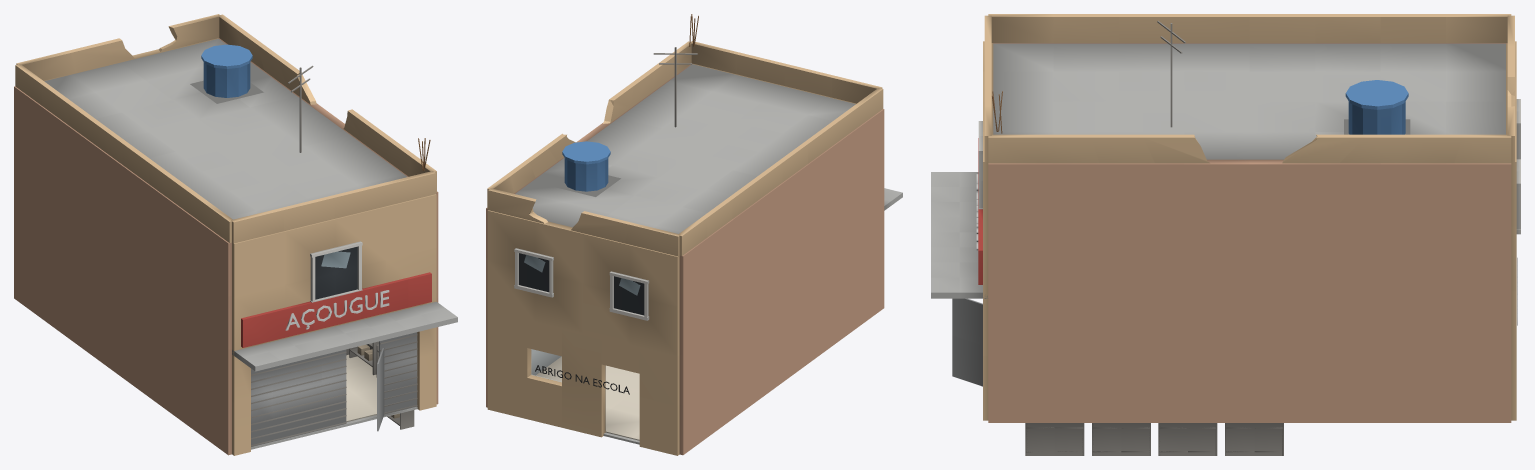
File: sobrado_3.glb
The picture shows the model from 3 angles, left to right: view 1: azimuth 30°, elevation 25°; view 2: azimuth 150°, elevation 25°; view 3: azimuth 270°, elevation 25°; orthographic projection. The views are drawn at different scales.
Parts seen in each view (by area): view 1: longe, ext, detalhe, dentro; view 2: ext, longe, detalhe, dentro; view 3: ext, longe, dentro, detalhe.
Part boxes in pixels (x1=…): longe: x1=15, y1=14, x2=457, y2=446; ext: x1=14, y1=38, x2=438, y2=455; detalhe: x1=190, y1=44, x2=430, y2=330; dentro: x1=251, y1=341, x2=417, y2=449; ext: x1=486, y1=63, x2=884, y2=455; longe: x1=487, y1=41, x2=902, y2=256; detalhe: x1=514, y1=14, x2=698, y2=394; dentro: x1=531, y1=349, x2=639, y2=444; ext: x1=983, y1=41, x2=1516, y2=422; longe: x1=931, y1=14, x2=1514, y2=386; dentro: x1=1025, y1=423, x2=1283, y2=455; detalhe: x1=976, y1=20, x2=1520, y2=325.
Size of what is drawn, in the model's own units: 6.22 by 9.29 by 12.4.
